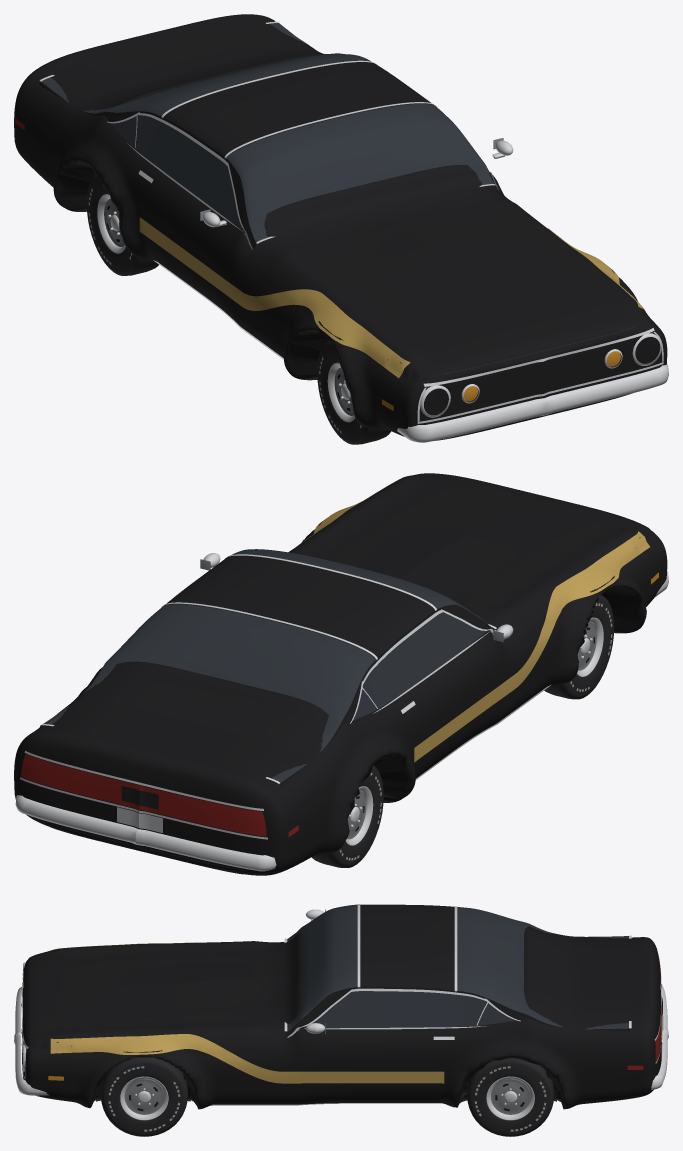
The model's file is muscle-70s.glb.
The picture shows the model from 3 angles, top to bottom: view 1: azimuth 30°, elevation 25°; view 2: azimuth 150°, elevation 25°; view 3: azimuth 270°, elevation 25°; orthographic projection. The views are drawn at different scales.
Parts seen in each view (by area): view 1: Body, Glasshouse, Details, Stripe, Wheel_RR, Wheel_FR, WindowTrim, Mirrors; view 2: Body, Glasshouse, Details, Stripe, Wheel_FR, Wheel_RR, WindowTrim, Plate; view 3: Body, Glasshouse, Stripe, Wheel_FL, Wheel_RL, Details, WindowTrim.
Part boxes in pixels (x1,y1,x2,y2): Body: (14,14,667,440); Glasshouse: (39,23,496,248); Details: (14,118,668,442); Stripe: (139,217,649,378); Wheel_RR: (86,175,158,275); Wheel_FR: (317,340,391,444); WindowTrim: (39,21,498,249); Mirrors: (200,138,513,227); Body: (14,473,667,875); Glasshouse: (39,549,495,786); Details: (15,531,668,874); Stripe: (298,475,649,762); Wheel_FR: (544,595,614,699); Wheel_RR: (311,765,383,867); WindowTrim: (40,554,496,783); Plate: (117,807,162,833); Body: (22,926,660,1109); Glasshouse: (286,904,630,1036); Stripe: (50,942,444,1083); Wheel_FL: (101,1057,187,1136); Wheel_RL: (467,1058,554,1136); Details: (14,953,668,1105); WindowTrim: (284,904,631,1037).
Size of the model in its own units: 2.14 by 1.31 by 5.
